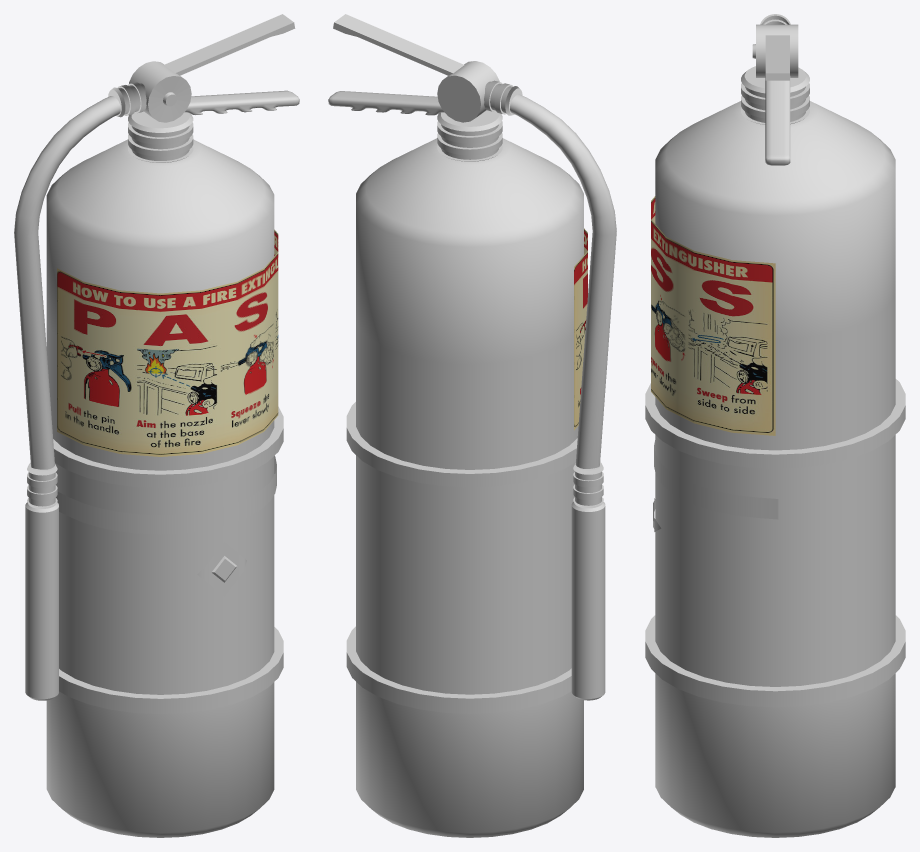
File: Fire extinguisher.FBX
3 views of the same model, side by side, from view 1: azimuth 30°, elevation 25°; view 2: azimuth 150°, elevation 25°; view 3: azimuth 270°, elevation 25° (orthographic). The views are drawn at different scales.
Visible parts, largest first — view 1: Plane001, Cylinder001, Box001, Cylinder002, Cylinder004; view 2: Plane001, Box001, Cylinder004, Cylinder001, Cylinder002; view 3: Plane001, Cylinder001, Cylinder004, Cylinder002, Box001.
Part boxes in pixels (<box>): Plane001: <box>46,111,283,837</box>; Cylinder001: <box>57,229,278,456</box>; Box001: <box>14,90,299,700</box>; Cylinder002: <box>27,455,276,534</box>; Cylinder004: <box>108,14,295,122</box>; Plane001: <box>346,110,583,837</box>; Box001: <box>328,91,616,700</box>; Cylinder004: <box>333,14,522,122</box>; Cylinder001: <box>574,228,587,430</box>; Cylinder002: <box>572,462,603,508</box>; Plane001: <box>645,66,905,837</box>; Cylinder001: <box>651,196,775,435</box>; Cylinder004: <box>752,14,798,80</box>; Cylinder002: <box>654,440,778,519</box>; Box001: <box>765,76,790,165</box>.
Bounding box in the file's own units: 7.19 × 18.12 × 5.44.
